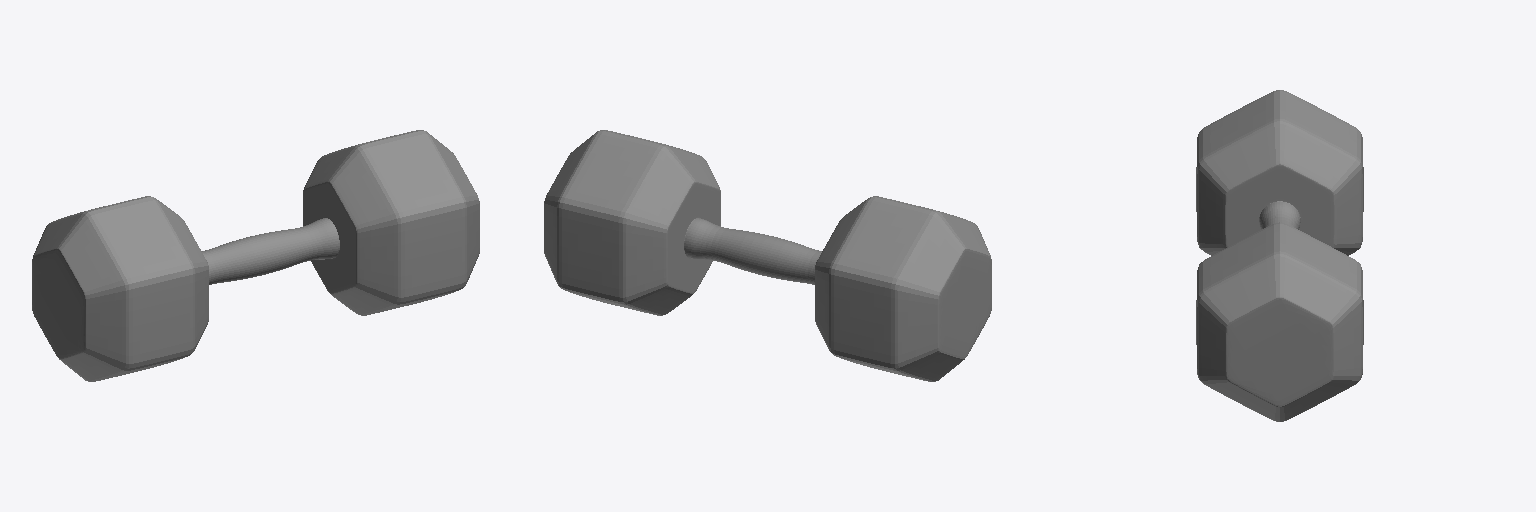
File: dumbbell.obj
The picture shows the model from 3 angles: view 1: azimuth 30°, elevation 25°; view 2: azimuth 150°, elevation 25°; view 3: azimuth 270°, elevation 25°; orthographic projection.
Parts seen in each view (by area): view 1: 10499_Dumbells_v1; view 2: 10499_Dumbells_v1; view 3: 10499_Dumbells_v1.
Boxes of the visible parts, <box> form: 10499_Dumbells_v1: <box>32,130,479,381</box>; 10499_Dumbells_v1: <box>544,130,991,381</box>; 10499_Dumbells_v1: <box>1196,90,1363,421</box>.
Bounding box in the file's own units: 33.22 × 13.68 × 12.17.